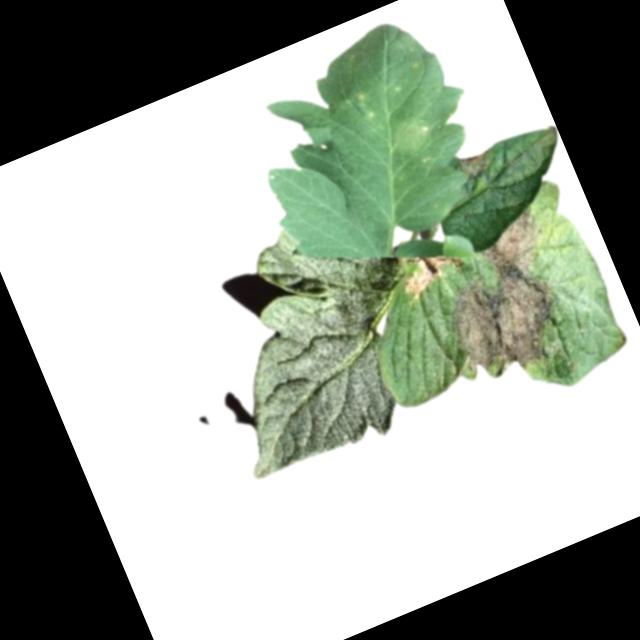Late_blight: (417, 206, 590, 391), (394, 243, 465, 305), (384, 108, 438, 160), (451, 145, 500, 186), (348, 83, 373, 108)
healthy: (169, 193, 460, 490)
